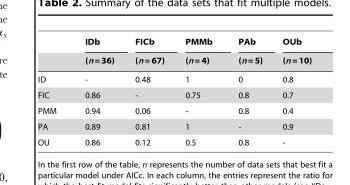table: (37, 37, 311, 146)
table column: (70, 37, 124, 146), (124, 37, 174, 146), (174, 37, 224, 146), (224, 37, 271, 146), (271, 37, 311, 146), (37, 37, 70, 146)
table column header: (37, 37, 311, 69)
table row: (37, 50, 311, 69), (37, 69, 311, 87), (37, 102, 311, 118), (37, 118, 311, 134), (37, 87, 311, 102), (37, 37, 311, 50), (37, 134, 311, 146)
table spanning cell: (70, 37, 124, 69), (124, 37, 174, 69), (174, 37, 224, 69), (224, 37, 271, 69), (271, 37, 311, 69)
